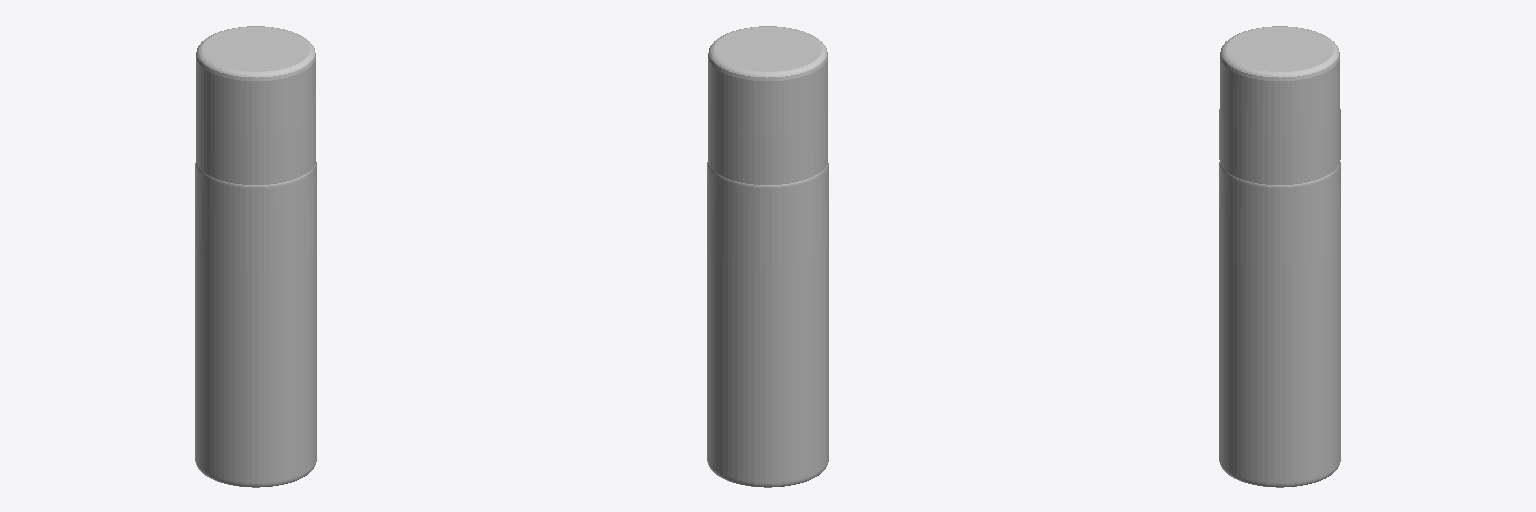
Rendered from spray bottle.obj.
3 views of the same model, side by side, from view 1: azimuth 30°, elevation 25°; view 2: azimuth 150°, elevation 25°; view 3: azimuth 270°, elevation 25° (orthographic).
Parts seen in each view (by area): view 1: lp_bottle_Cylinder.002, lp_lid_Cylinder.115; view 2: lp_bottle_Cylinder.002, lp_lid_Cylinder.115; view 3: lp_bottle_Cylinder.002, lp_lid_Cylinder.115.
Boxes of the visible parts, x1=… form: lp_bottle_Cylinder.002: x1=195, y1=162, x2=316, y2=487; lp_lid_Cylinder.115: x1=196, y1=26, x2=315, y2=184; lp_bottle_Cylinder.002: x1=707, y1=162, x2=828, y2=487; lp_lid_Cylinder.115: x1=708, y1=26, x2=827, y2=184; lp_bottle_Cylinder.002: x1=1219, y1=162, x2=1340, y2=487; lp_lid_Cylinder.115: x1=1219, y1=26, x2=1340, y2=184.
Bounding box in the file's own units: 0.9831 × 3.68 × 0.9831.